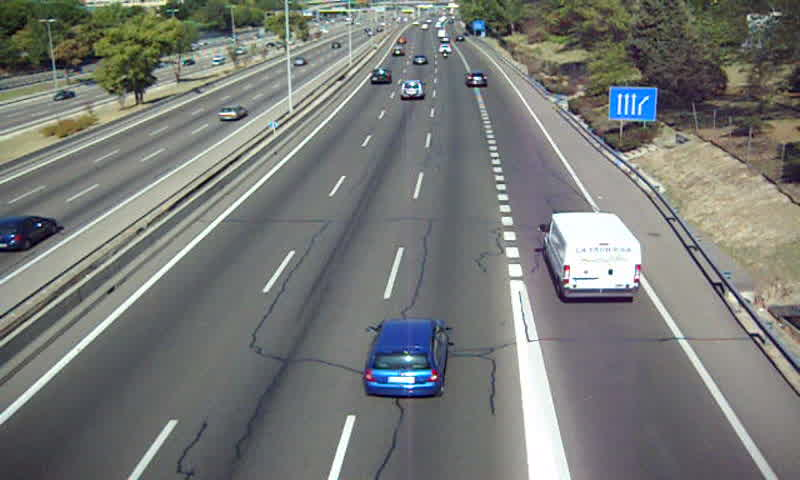car: (364, 318, 449, 397), (398, 81, 425, 102), (465, 72, 491, 89), (369, 68, 392, 86)
van: (538, 212, 644, 300)
